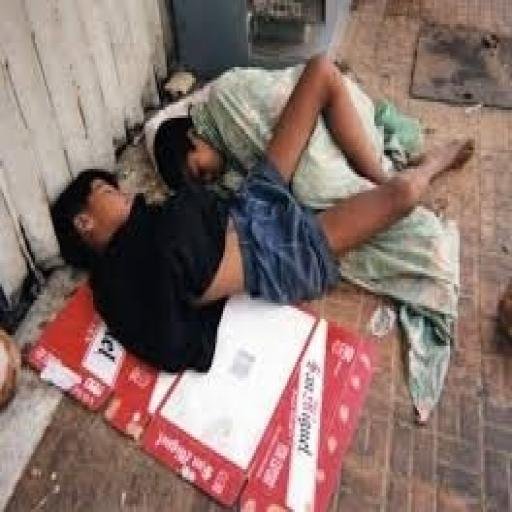sleeping: (47, 51, 475, 375)
